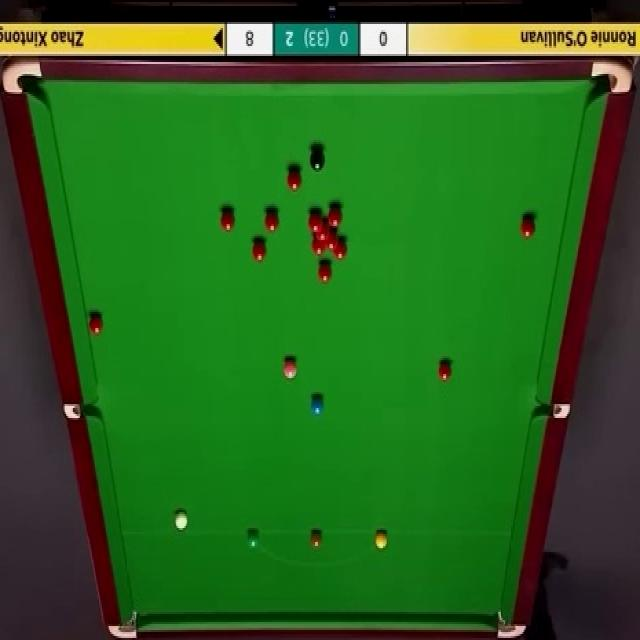black-ball: (308, 148, 326, 170)
blue-ball: (310, 393, 324, 418)
brown-ball: (310, 531, 323, 550)
green-ball: (246, 531, 259, 550)
pink-ball: (282, 356, 298, 378), (309, 265, 324, 284)
red-ball: (220, 206, 236, 234), (88, 311, 104, 336), (250, 240, 268, 262), (286, 167, 302, 190), (264, 210, 280, 233), (328, 206, 343, 230)
white-ball: (175, 508, 188, 533)
yellow-ball: (375, 531, 388, 550)
